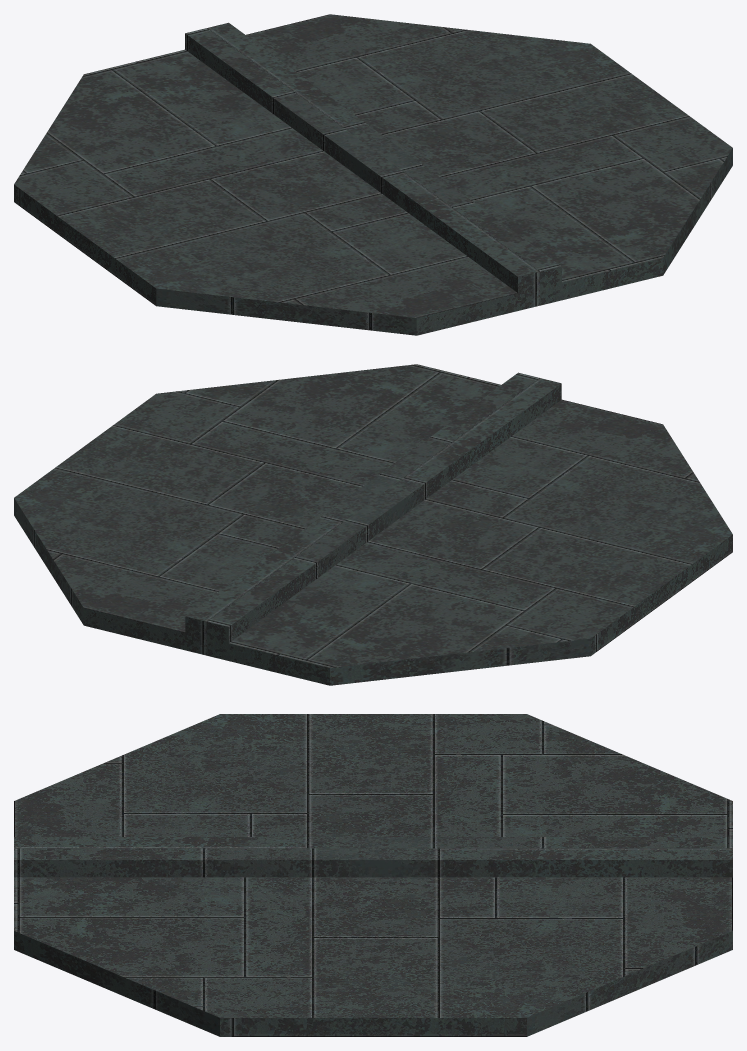
The model's file is DoorBays.fbx.
The picture shows the model from 3 angles, top to bottom: view 1: azimuth 30°, elevation 25°; view 2: azimuth 150°, elevation 25°; view 3: azimuth 270°, elevation 25°; orthographic projection. The views are drawn at different scales.
Visible parts, largest first — view 1: Cube.291, Cube.001; view 2: Cube.291, Cube.001; view 3: Cube.001, Cube.291.
Part boxes in pixels (bbox=[...]): Cube.291: bbox=[14, 28, 539, 335]; Cube.001: bbox=[207, 14, 732, 305]; Cube.291: bbox=[207, 378, 732, 685]; Cube.001: bbox=[14, 364, 539, 655]; Cube.001: bbox=[14, 848, 732, 1036]; Cube.291: bbox=[14, 714, 732, 848].
Bounding box in the file's own units: 89.24 × 5.02 × 89.26.
